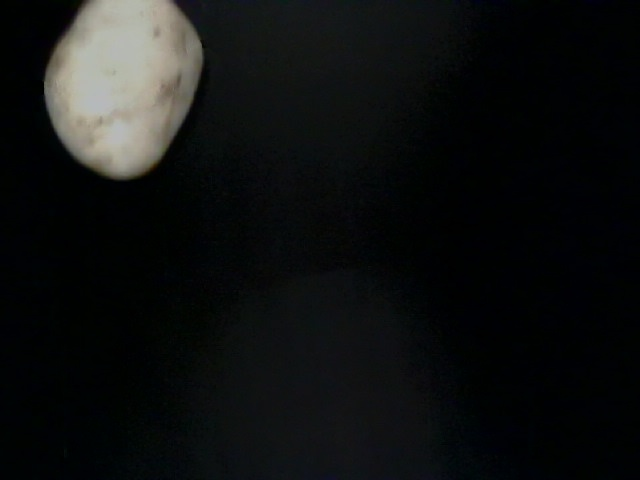QTLJ: (18, 20, 193, 312)
